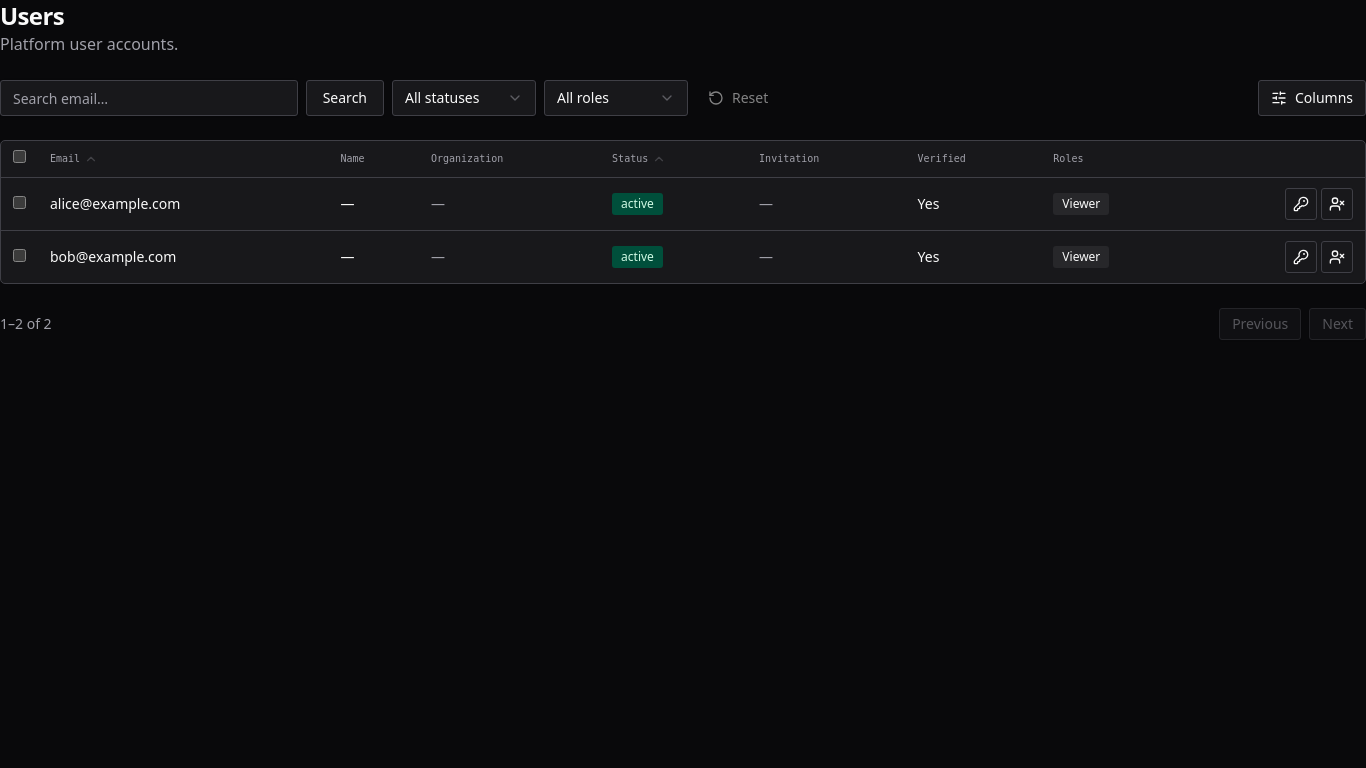
Test: UsersListPage — bulk admin actions › bulk deactivate posts the target status on every row and shows no result dialog when all succeed
This screenshot has width=1366, height=768.
Expected: the text "bob@example.com" is shown, [50, 246, 176, 266]
Click the checkbox named "Select all rows".
click(20, 157)  # box [13, 150, 26, 163]
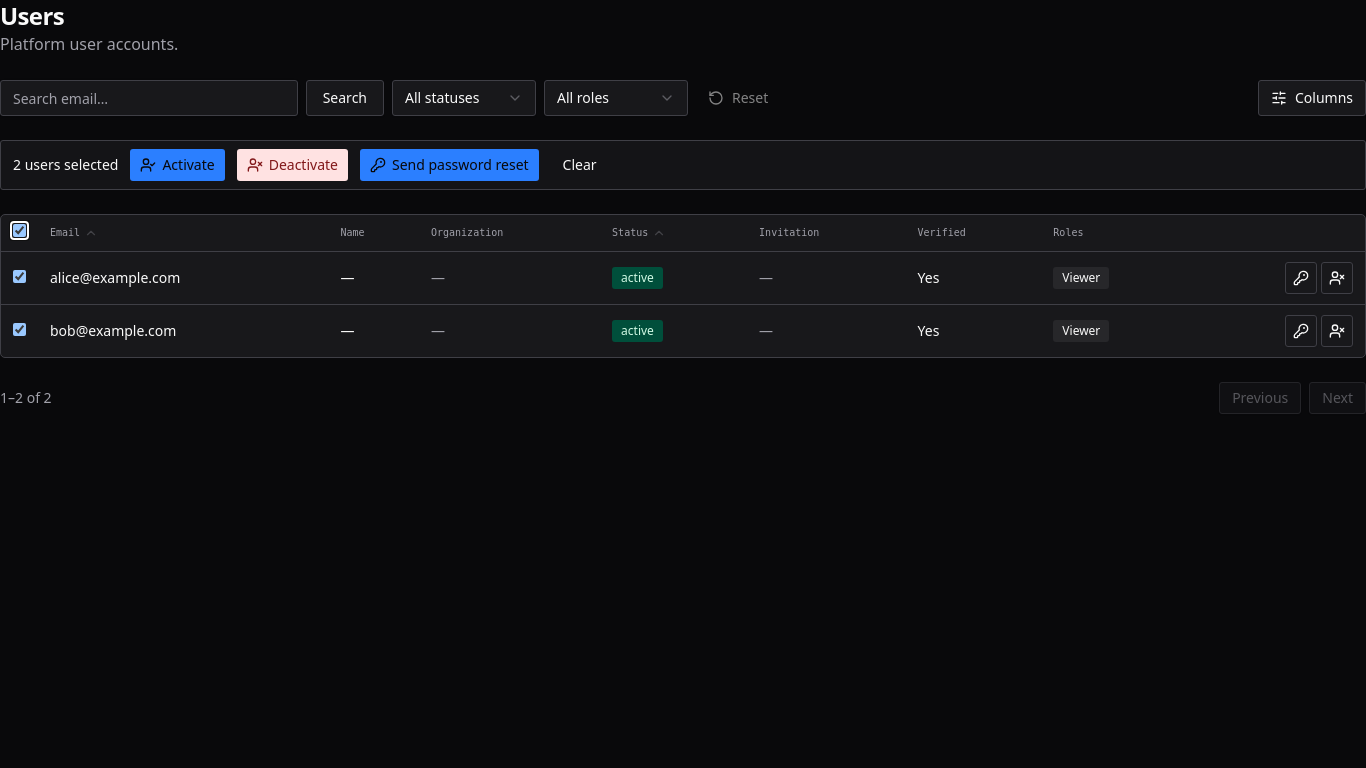
Click the button "Deactivate".
click(292, 165)  # box [237, 149, 348, 181]
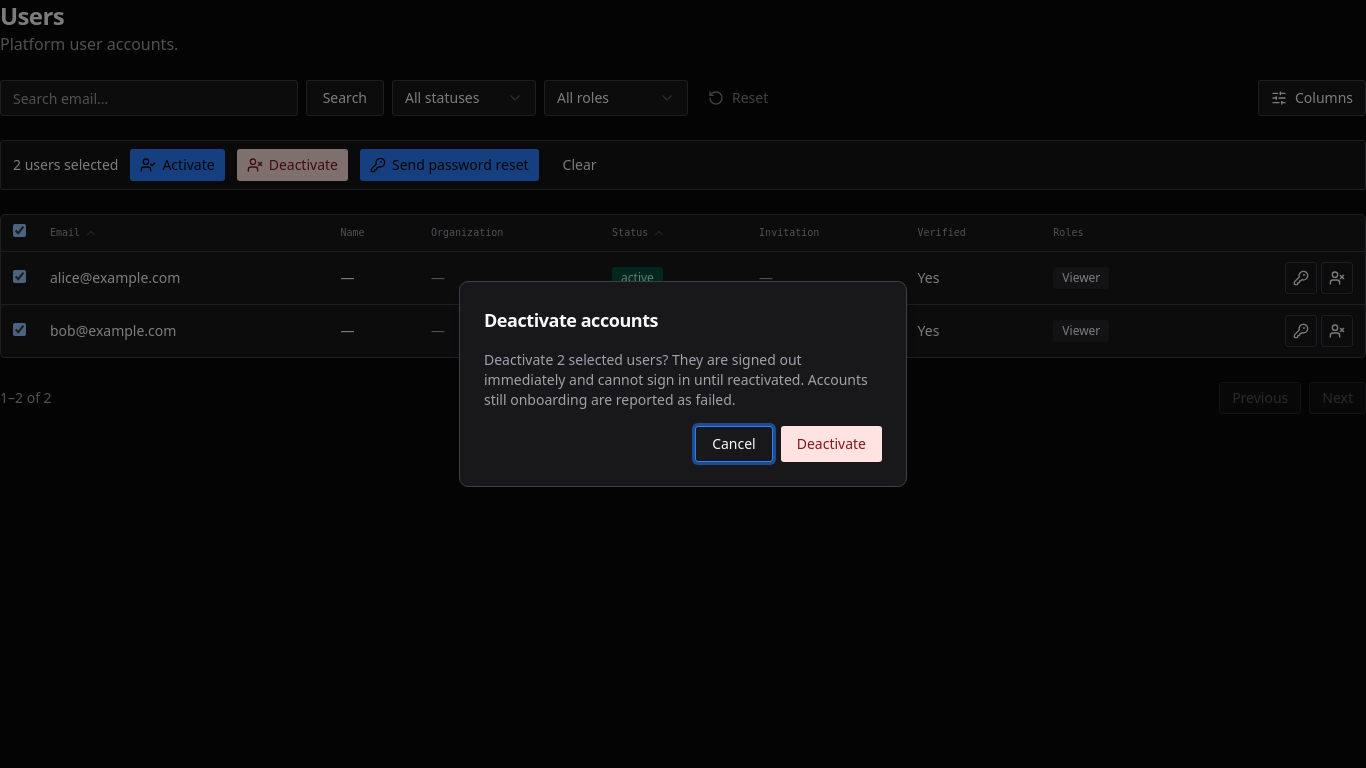
Click the button "Deactivate".
click(831, 444)  # box [781, 426, 882, 462]
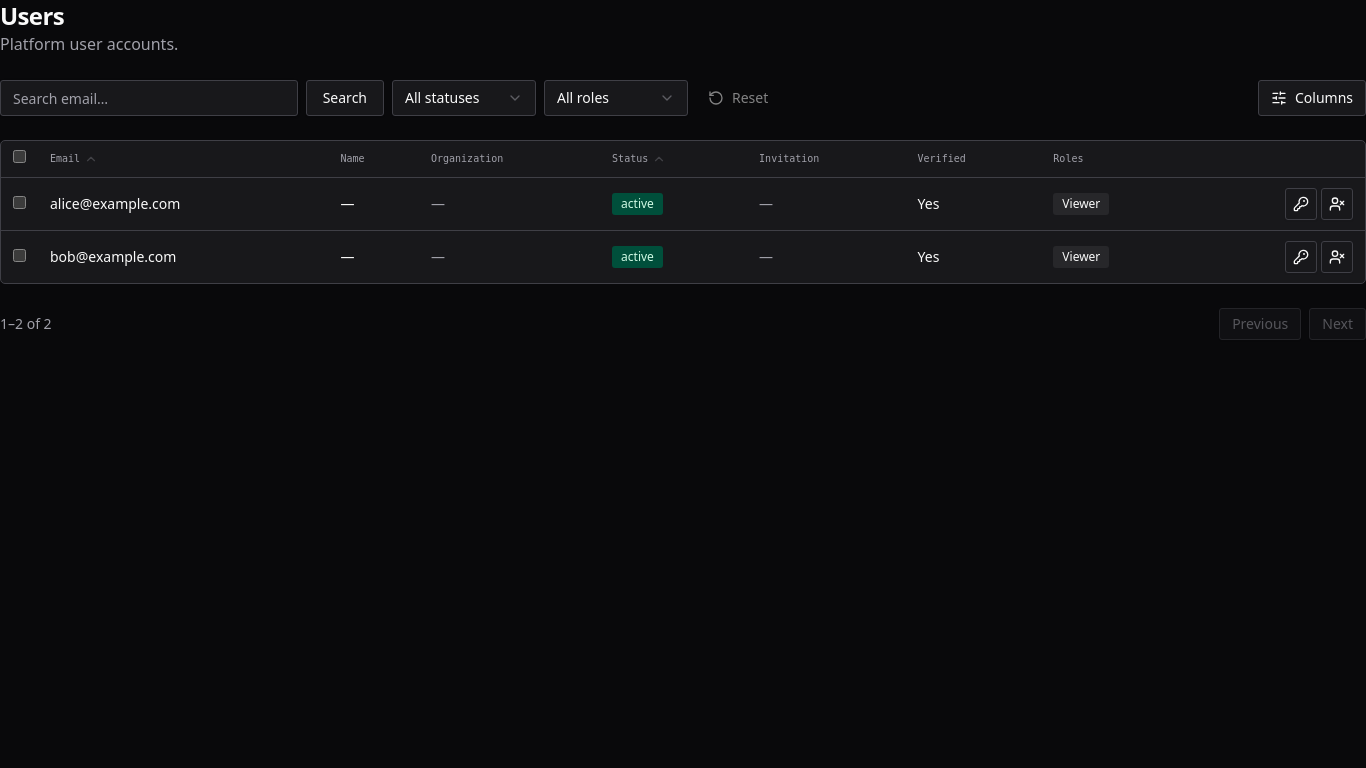
Result: the text "users selected" is gone
